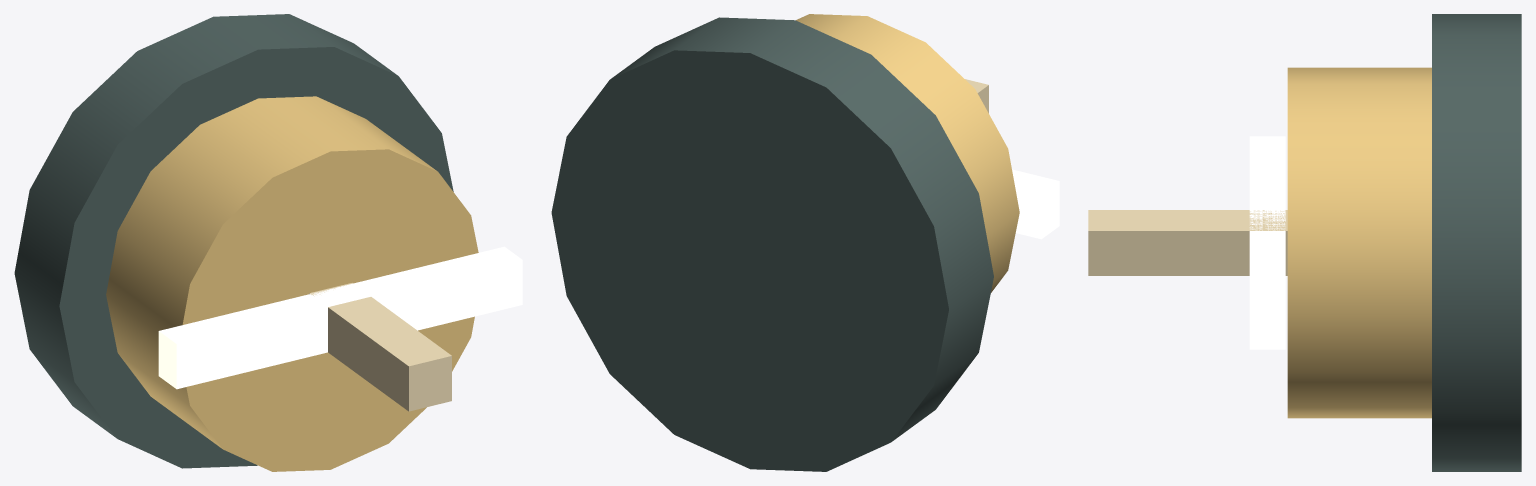
Rendered from lidar_long.glb.
The picture shows the model from 3 angles, left to right: view 1: azimuth 30°, elevation 25°; view 2: azimuth 150°, elevation 25°; view 3: azimuth 270°, elevation 25°; orthographic projection.
Parts seen in each view (by area): view 1: scanner, base, scan_bar, antenna; view 2: base, scanner, scan_bar; view 3: scanner, base, antenna, scan_bar.
Part boxes in pixels (left/top/right/bottom): scanner: left=106, top=96, right=478, bottom=471; base: left=14, top=14, right=453, bottom=468; scan_bar: left=158, top=246, right=522, bottom=389; antenna: left=309, top=283, right=451, bottom=411; base: left=551, top=17, right=993, bottom=471; scanner: left=796, top=14, right=1019, bottom=292; scan_bar: left=1012, top=169, right=1059, bottom=239; scanner: left=1287, top=67, right=1431, bottom=418; base: left=1432, top=14, right=1521, bottom=471; antenna: left=1088, top=210, right=1287, bottom=275; scan_bar: left=1249, top=136, right=1285, bottom=349.
Bounding box in the file's own units: 0.23 × 0.23 × 0.2175.
